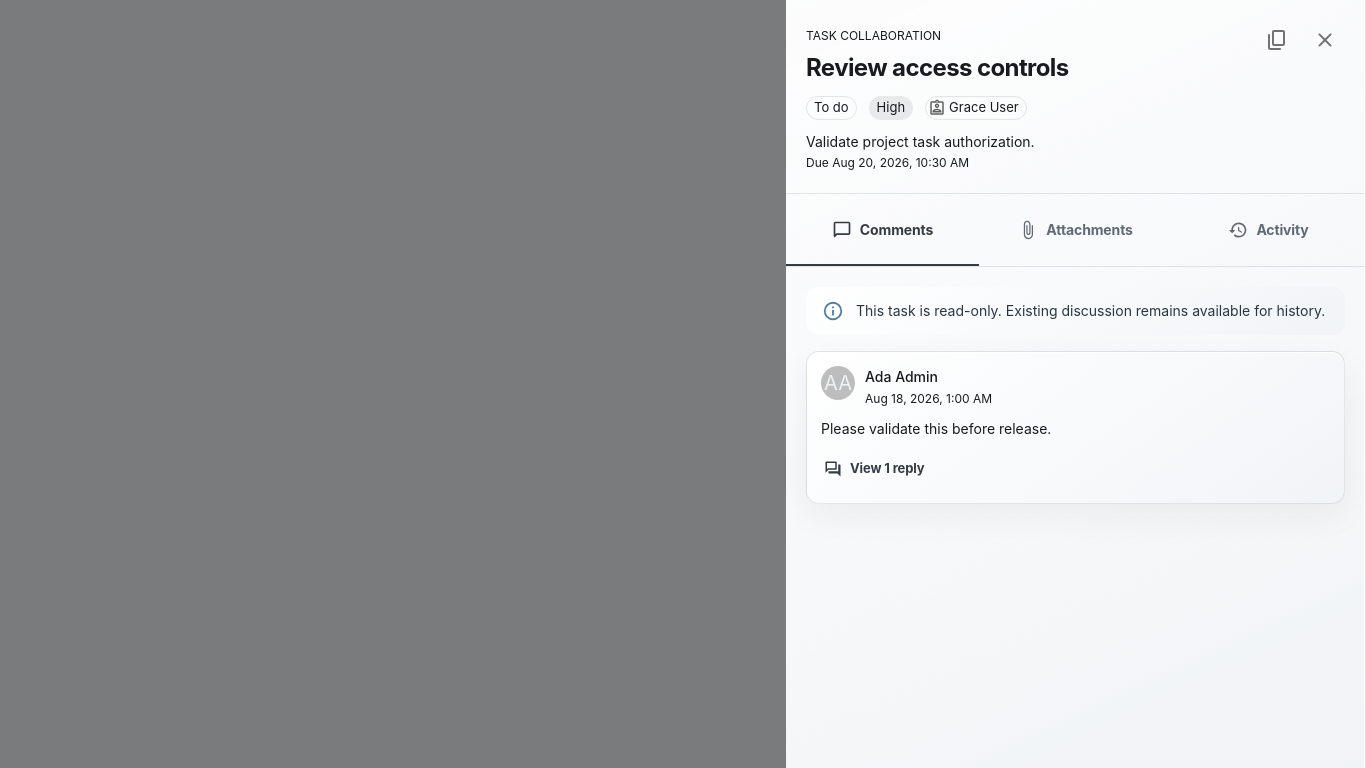
Test: ProjectTaskCollaborationDrawer › shows domain activity and keeps archived or cancelled collaboration read only
Expected: the text "Existing discussion remains available for history" is shown, left=856, top=302, right=1325, bottom=319
Click the tab "Activity". click: (1268, 230)
box: left=1172, top=194, right=1365, bottom=266
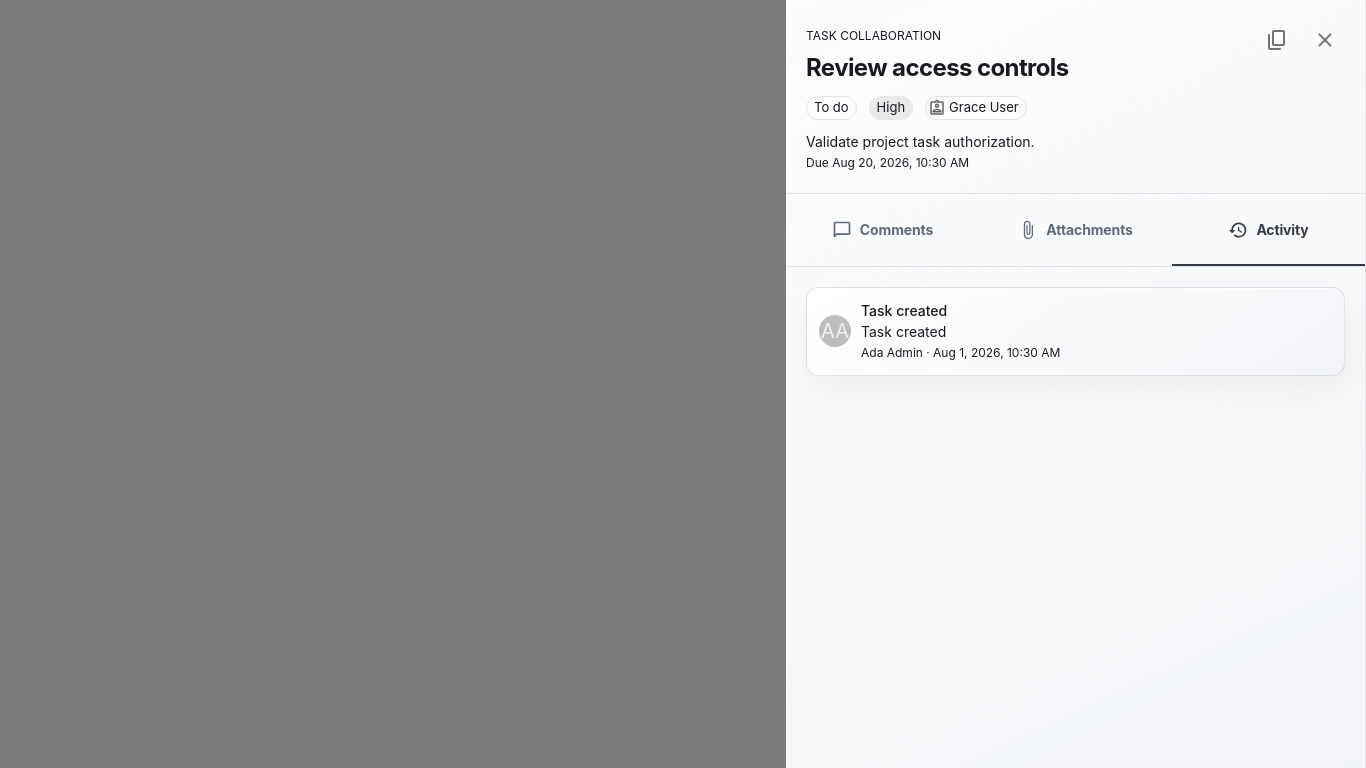
Expected: the heading "Task created" is shown, left=861, top=302, right=947, bottom=319
Expected: the text "Ada Admin · Aug 1, 2026, 10:30 AM" is shown, left=861, top=345, right=1060, bottom=360
